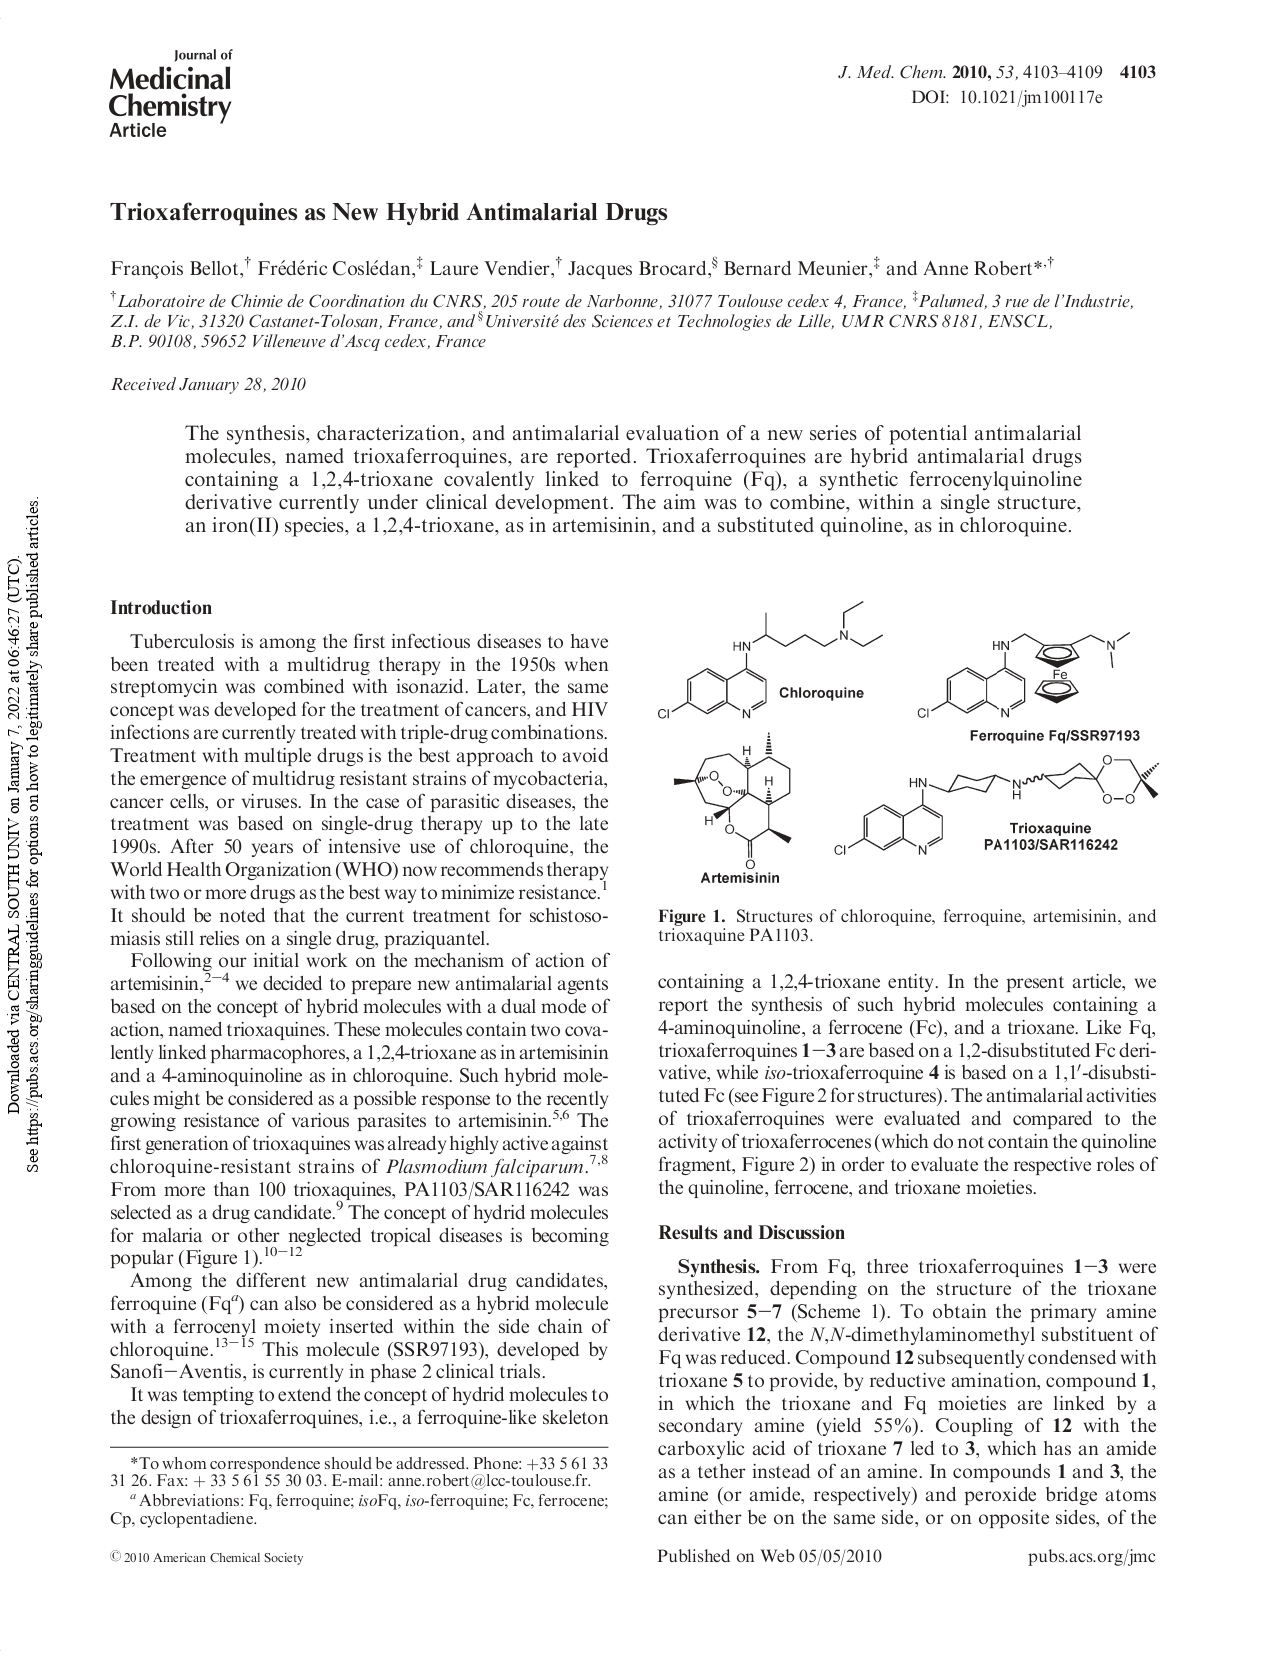exist_molecular: (832, 755, 1170, 864), (654, 596, 887, 731), (911, 626, 1137, 731), (672, 741, 797, 868)
